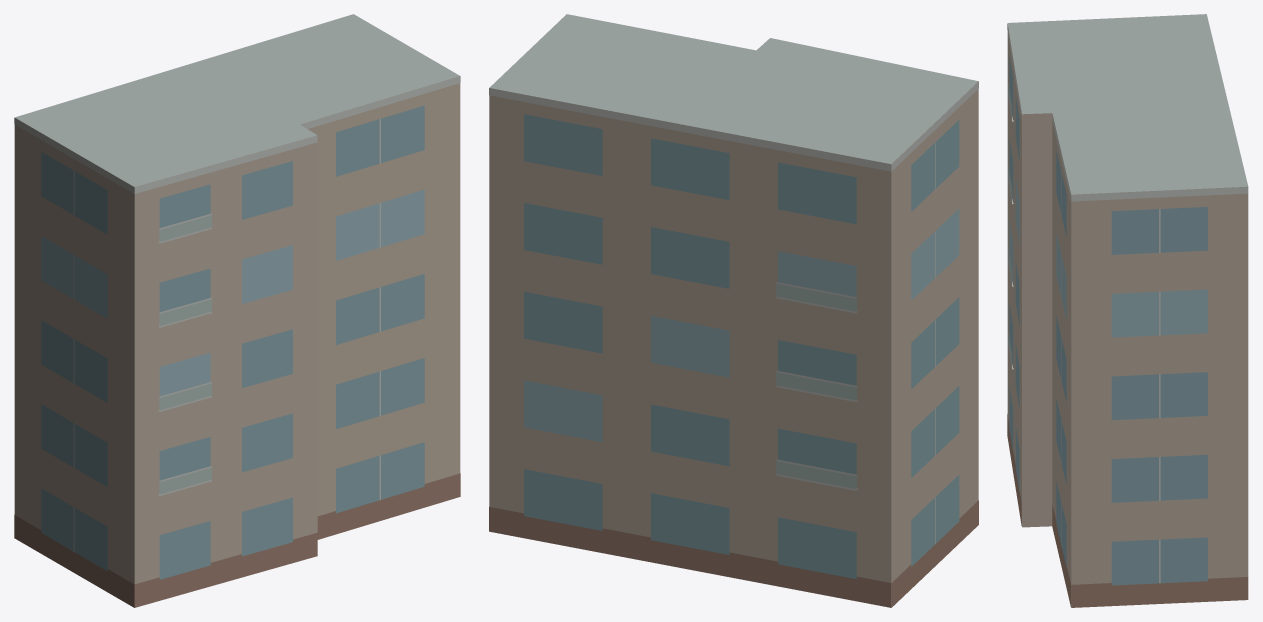
The model's file is survey-upis-33005351.glb.
3 views of the same model, side by side, from view 1: azimuth 30°, elevation 25°; view 2: azimuth 150°, elevation 25°; view 3: azimuth 270°, elevation 25° (orthographic). The views are drawn at different scales.
Visible parts, largest first — view 1: survey-upis-33005351.tmp; view 2: survey-upis-33005351.tmp; view 3: survey-upis-33005351.tmp.
Part boxes in pixels (box(x1,y1,x2,y2)): survey-upis-33005351.tmp: box(14, 14, 460, 607); survey-upis-33005351.tmp: box(489, 14, 978, 607); survey-upis-33005351.tmp: box(1007, 14, 1248, 607).
Size of the model in its own units: 13.79 by 14.7 by 7.78.
